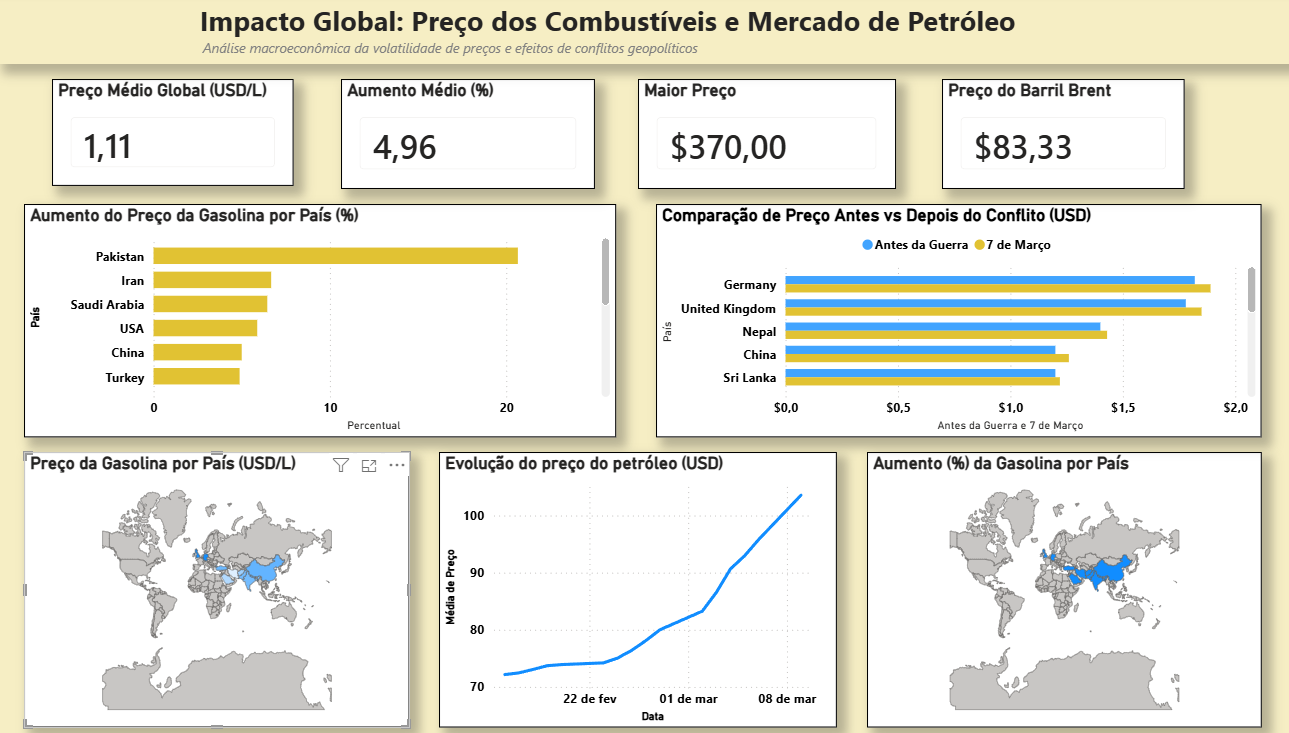

Layout of this report page (visuals, bound fields, positions):
{"tool":"powerbi","page":{"name":"Página 1","canvas":[1280,720],"ordinal":0},"visuals":[{"type":"cardVisual","title":"Preço Médio Global (USD/L)","fields":{"Data":["Avg(Sheet1 (2).Mar7_USD)"]},"box":[52.5,80.7,235.4,104.1],"z":0},{"type":"barChart","title":"Aumento do Preço da Gasolina por País (%)","fields":{"Category":["Sheet1 (2).Country"],"Y":["Avg(Sheet1 (2).Pct_Increase)"]},"box":[25.3,202.3,575.8,226.6],"z":1000},{"type":"shapeMap","title":"Preço da Gasolina por País (USD/L)","fields":{"Value":["Sum(Sheet1 (2).Mar7_USD)"],"Category":["Sheet1 (2).Country"]},"box":[25.3,443.5,375.4,268.4],"z":2000},{"type":"shapeMap","title":"Aumento (%) da Gasolina por País","fields":{"Category":["Sheet1 (2).Country"]},"box":[845.2,443.5,384.2,268.4],"z":3000},{"type":"clusteredBarChart","title":"Comparação de Preço Antes vs Depois do Conflito (USD)","fields":{"Category":["Sheet1 (2).Country"],"Y":["Avg(Sheet1 (2).Before_War_USD)","Avg(Sheet1 (2).Mar7_USD)"]},"box":[640,202.3,589.4,226.6],"z":4000},{"type":"lineChart","title":"Evolução do preço do petróleo (USD)","fields":{"Category":["Sheet1.Date"],"Y":["Avg(Sheet1.Avg_Price)"]},"box":[428.9,443.5,387.1,268.4],"z":5000},{"type":"cardVisual","title":"Aumento Médio (%)","fields":{"Data":["Avg(Sheet1 (2).Pct_Increase)"]},"box":[333.6,80.7,247.1,107],"z":6000},{"type":"cardVisual","title":"Maior Preço","fields":{"Data":["Max(Sheet1 (2).Mar7_Price)"]},"box":[622.5,80.7,250.9,107],"z":7000},{"type":"cardVisual","title":"Preço do Barril Brent","fields":{"Data":["Avg(Sheet1.Brent_USD)"]},"box":[918.2,80.7,236.4,107],"z":8000},{"type":"textbox","box":[0,0,1280,66.1],"z":9000}]}

Visuals, with their boxes in screenshot pixels (x1, y1, x2, y2), scaled from the page's 1280x720 canvas onto the 1289x733 screenshot:
"Preço Médio Global (USD/L)" cardVisual: {"x1": 53, "y1": 82, "x2": 290, "y2": 188}
"Aumento do Preço da Gasolina por País (%)" barChart: {"x1": 25, "y1": 206, "x2": 605, "y2": 437}
"Preço da Gasolina por País (USD/L)" shapeMap: {"x1": 25, "y1": 452, "x2": 404, "y2": 725}
"Aumento (%) da Gasolina por País" shapeMap: {"x1": 851, "y1": 452, "x2": 1238, "y2": 725}
"Comparação de Preço Antes vs Depois do Conflito (USD)" clusteredBarChart: {"x1": 644, "y1": 206, "x2": 1238, "y2": 437}
"Evolução do preço do petróleo (USD)" lineChart: {"x1": 432, "y1": 452, "x2": 822, "y2": 725}
"Aumento Médio (%)" cardVisual: {"x1": 336, "y1": 82, "x2": 585, "y2": 191}
"Maior Preço" cardVisual: {"x1": 627, "y1": 82, "x2": 880, "y2": 191}
"Preço do Barril Brent" cardVisual: {"x1": 925, "y1": 82, "x2": 1163, "y2": 191}
textbox: {"x1": 0, "y1": 0, "x2": 1288, "y2": 67}
